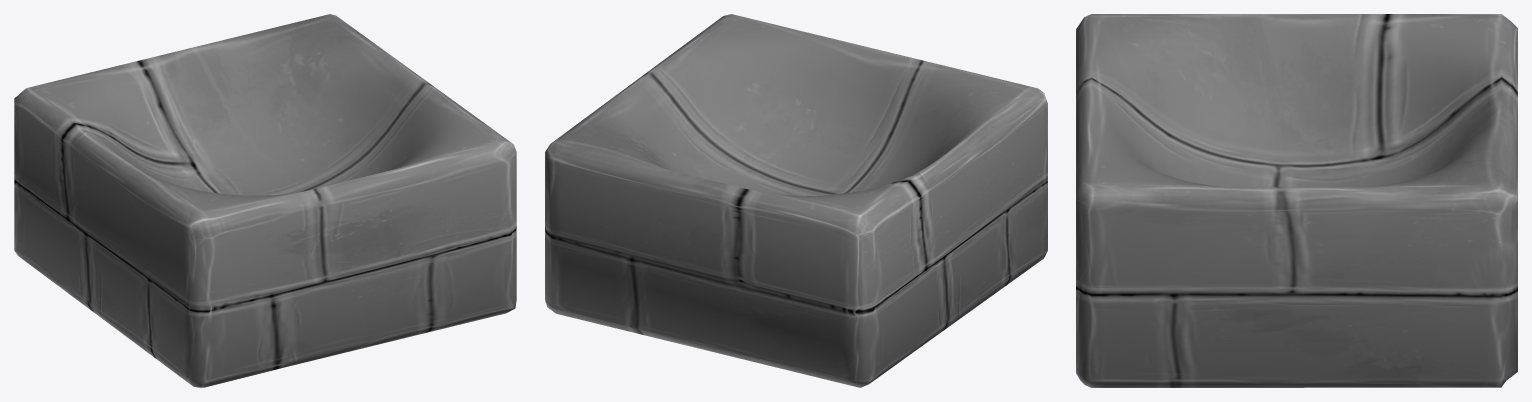
File: Slump Piece.fbx
3 renders of one model, left to right at view 1: azimuth 30°, elevation 25°; view 2: azimuth 150°, elevation 25°; view 3: azimuth 270°, elevation 25°, orthographic. The views are drawn at different scales.
Parts seen in each view (by area): view 1: Slump_low; view 2: Slump_low; view 3: Slump_low.
Boxes of the visible parts, x1,y1,x2,y2 form: Slump_low: (14,14,516,387); Slump_low: (545,14,1047,387); Slump_low: (1076,14,1517,387).
Size of the model in its own units: 200 by 100 by 200.
